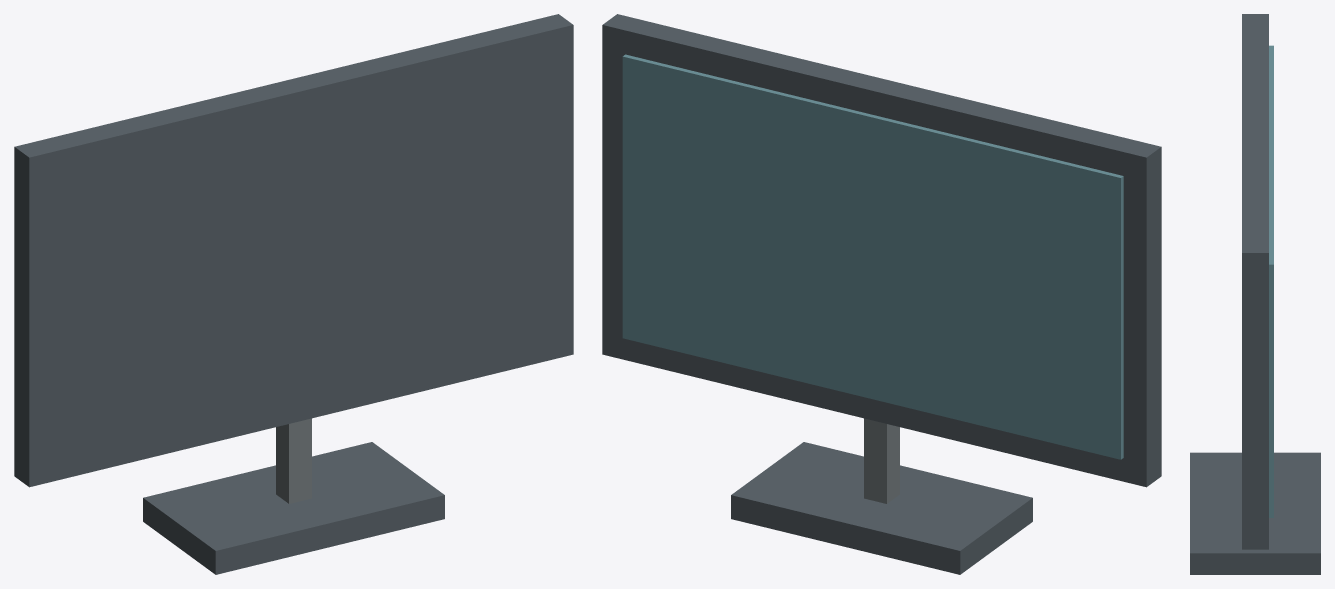
Rendered from television_flat.glb.
3 renders of one model, left to right at view 1: azimuth 30°, elevation 25°; view 2: azimuth 150°, elevation 25°; view 3: azimuth 270°, elevation 25°, orthographic. The views are drawn at different scales.
Visible parts, largest first — view 1: body; view 2: body; view 3: body.
Boxes of the visible parts, x1,y1,x2,y2 form: body: (14, 14, 573, 574); body: (602, 14, 1161, 574); body: (1190, 14, 1320, 574).
Bounding box in the file's own units: 0.95 × 0.725 × 0.22.
